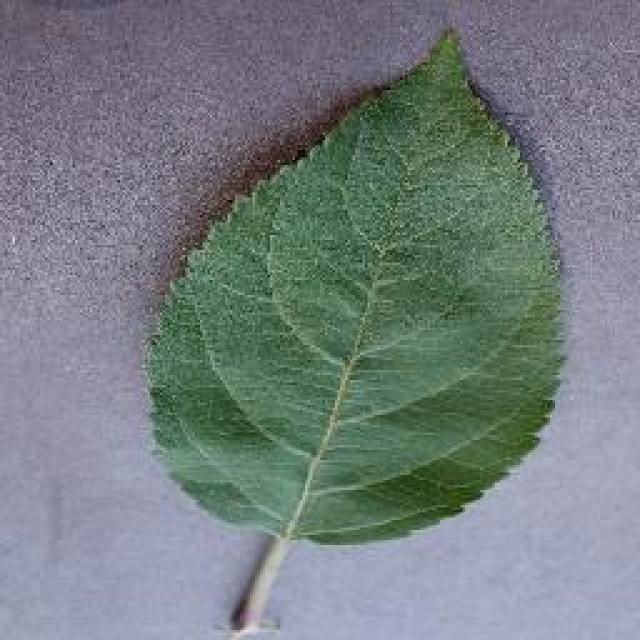Apple___healthy: (132, 15, 580, 640)
